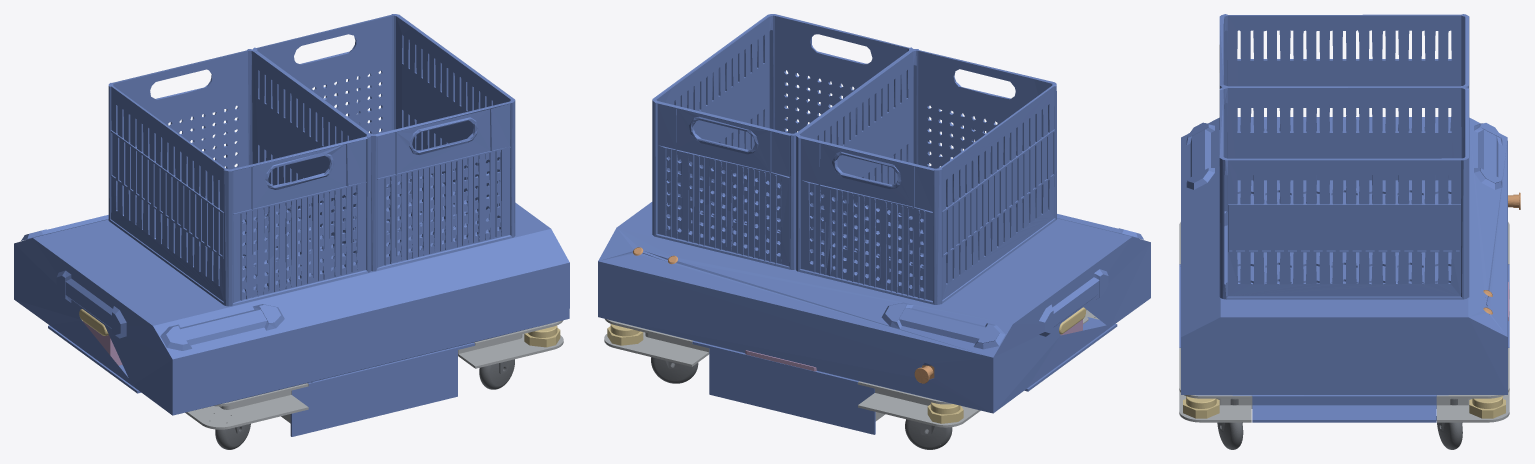
Rendered from amir-2023.glb.
3 views of the same model, side by side, from view 1: azimuth 30°, elevation 25°; view 2: azimuth 150°, elevation 25°; view 3: azimuth 270°, elevation 25° (orthographic). The views are drawn at different scales.
Parts seen in each view (by area): view 1: External Interface Module / final_cover-1 5, External Interface Module / plastic crate-2 10, External Interface Module / plastic crate-1 9, External Interface Module / Lidar Side ASSY-2 Lidar Side-1 4, Structural Module / Fixtures and Brackets-1 lidar_bracket-3 , External Interface Module / led-2 7, Structural Module / Fixtures and Brackets-1 lidar_bracket-2 , External Interface Module / led-3 8, Mobility Module / Castor Assembly-1 Castor Wheel-1 68, Sensing & Perception Module / Lidar-2 2, Mobility Module / Castor Assembly-3 Castor Wheel-1 74; view 2: External Interface Module / final_cover-1 5, External Interface Module / plastic crate-2 10, External Interface Module / plastic crate-1 9, External Interface Module / Lidar Side ASSY-1 Lidar Side-1 3, External Interface Module / led-1 6, Structural Module / Fixtures and Brackets-1 lidar_bracket-1 , Structural Module / Fixtures and Brackets-1 lidar_bracket-4 , External Interface Module / led-3 8, Mobility Module / Castor Assembly-4 Castor Wheel-1 77, Mobility Module / Castor Assembly-2 Castor Wheel-1 71, Sensing & Perception Module / Lidar-3 3, External Interface Module / Front Bumber-2 Lidar Front1-1 2 (+1 smaller); view 3: External Interface Module / plastic crate-1 9, External Interface Module / final_cover-1 5, External Interface Module / plastic crate-2 10, External Interface Module / Front Bumber-1 Lidar Front1-1 1, External Interface Module / led-2 7, External Interface Module / led-1 6, Structural Module / Fixtures and Brackets-1 lidar_bracket-2 , Structural Module / Fixtures and Brackets-1 lidar_bracket-4 , Sensing & Perception Module / Lidar-2 2, Sensing & Perception Module / Lidar-4 4, Mobility Module / Castor Assembly-2 Castor Wheel-1 71, Mobility Module / Castor Assembly-1 Castor Wheel-1 68.
Boxes of the visible parts, <box> form: External Interface Module / final_cover-1 5: <box>14,188,569,415</box>; External Interface Module / plastic crate-2 10: <box>108,49,371,306</box>; External Interface Module / plastic crate-1 9: <box>252,14,515,271</box>; External Interface Module / Lidar Side ASSY-2 Lidar Side-1 4: <box>290,342,474,436</box>; Structural Module / Fixtures and Brackets-1 lidar_bracket-3 : <box>185,383,308,429</box>; External Interface Module / led-2 7: <box>160,304,284,350</box>; Structural Module / Fixtures and Brackets-1 lidar_bracket-2 : <box>458,320,563,368</box>; External Interface Module / led-3 8: <box>56,270,126,338</box>; Mobility Module / Castor Assembly-1 Castor Wheel-1 68: <box>479,359,514,389</box>; Sensing & Perception Module / Lidar-2 2: <box>524,325,560,347</box>; Mobility Module / Castor Assembly-3 Castor Wheel-1 74: <box>215,423,250,449</box>; External Interface Module / final_cover-1 5: <box>598,187,1150,413</box>; External Interface Module / plastic crate-2 10: <box>796,49,1056,304</box>; External Interface Module / plastic crate-1 9: <box>652,14,913,269</box>; External Interface Module / Lidar Side ASSY-1 Lidar Side-1 3: <box>692,341,875,434</box>; External Interface Module / led-1 6: <box>881,302,1005,349</box>; Structural Module / Fixtures and Brackets-1 lidar_bracket-1 : <box>858,381,980,427</box>; Structural Module / Fixtures and Brackets-1 lidar_bracket-4 : <box>604,319,709,366</box>; External Interface Module / led-3 8: <box>1039,269,1108,336</box>; Mobility Module / Castor Assembly-4 Castor Wheel-1 77: <box>905,419,952,449</box>; Mobility Module / Castor Assembly-2 Castor Wheel-1 71: <box>651,357,698,383</box>; Sensing & Perception Module / Lidar-3 3: <box>927,402,963,423</box>; External Interface Module / Front Bumber-2 Lidar Front1-1 2: <box>1024,317,1117,391</box>; External Interface Module / plastic crate-1 9: <box>1219,86,1469,299</box>; External Interface Module / final_cover-1 5: <box>1181,117,1507,395</box>; External Interface Module / plastic crate-2 10: <box>1219,14,1469,212</box>; External Interface Module / Front Bumber-1 Lidar Front1-1 1: <box>1252,395,1436,422</box>; External Interface Module / led-2 7: <box>1186,122,1214,189</box>; External Interface Module / led-1 6: <box>1474,123,1502,189</box>; Structural Module / Fixtures and Brackets-1 lidar_bracket-2 : <box>1179,348,1251,422</box>; Structural Module / Fixtures and Brackets-1 lidar_bracket-4 : <box>1437,348,1509,422</box>; Sensing & Perception Module / Lidar-2 2: <box>1183,396,1219,418</box>; Sensing & Perception Module / Lidar-4 4: <box>1469,396,1505,418</box>; Mobility Module / Castor Assembly-2 Castor Wheel-1 71: <box>1436,416,1462,449</box>; Mobility Module / Castor Assembly-1 Castor Wheel-1 68: <box>1217,422,1243,449</box>.
Size of the model in its own units: 1.09 by 0.7422 by 0.7771.
